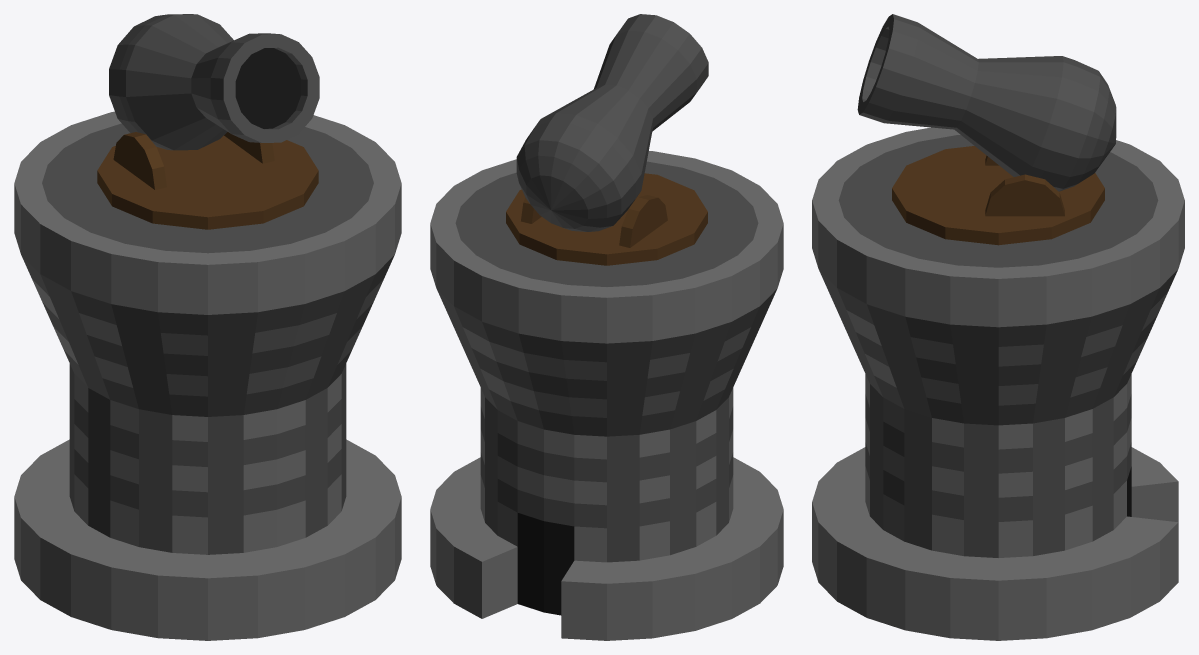
Rendered from Knights_Cannon.fbx.
3 views of the same model, side by side, from view 1: azimuth 30°, elevation 25°; view 2: azimuth 150°, elevation 25°; view 3: azimuth 270°, elevation 25° (orthographic). The views are drawn at different scales.
Visible parts, largest first — view 1: Knights_Arrow, Turret; view 2: Knights_Arrow, Turret; view 3: Knights_Arrow, Turret.
Part boxes in pixels (box(x1,y1,x2,y2)): Knights_Arrow: box(14, 111, 401, 640); Turret: box(97, 14, 319, 229); Knights_Arrow: box(430, 151, 783, 640); Turret: box(506, 14, 708, 265); Knights_Arrow: box(812, 127, 1184, 640); Turret: box(857, 14, 1116, 245).
Bounding box in the file's own units: 140 × 225 × 140.
